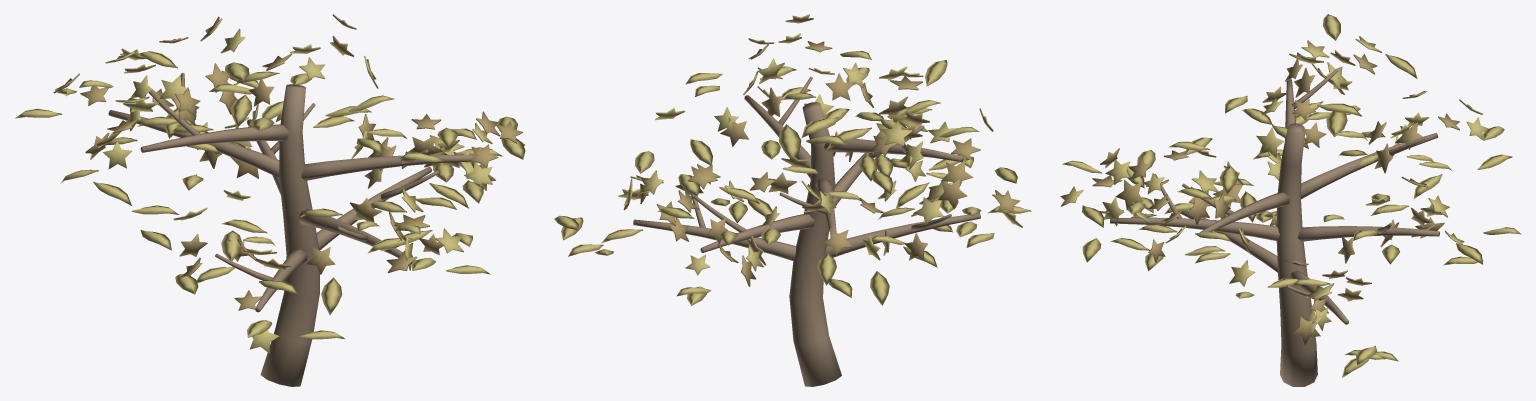
The model's file is SM_PlantBlossomWilted.fbx.
3 views of the same model, side by side, from view 1: azimuth 30°, elevation 25°; view 2: azimuth 150°, elevation 25°; view 3: azimuth 270°, elevation 25° (orthographic). The views are drawn at different scales.
Parts seen in each view (by area): view 1: PlantBlossomWilted; view 2: PlantBlossomWilted; view 3: PlantBlossomWilted.
Boxes of the visible parts, box(x1,y1,x2,y2) form: PlantBlossomWilted: box(15, 14, 525, 386); PlantBlossomWilted: box(554, 14, 1031, 386); PlantBlossomWilted: box(1060, 14, 1521, 386).
Bounding box in the file's own units: 1.98 × 1.55 × 2.07.
